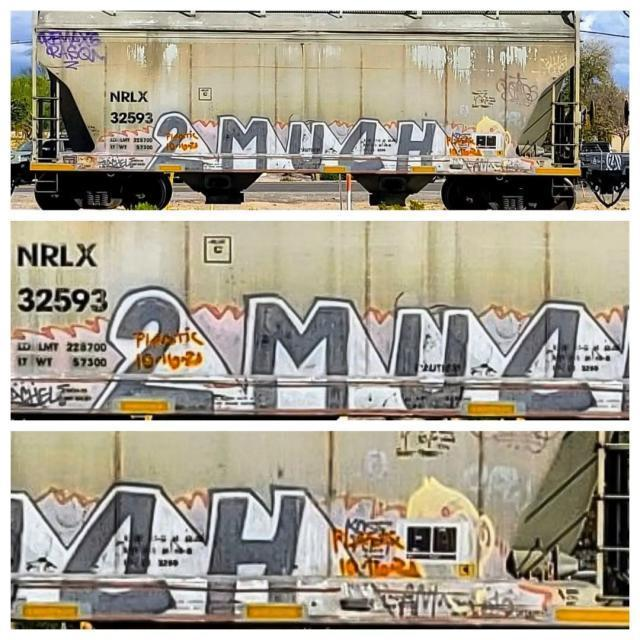-: (98, 284, 631, 419), (8, 494, 344, 622), (132, 112, 456, 180), (10, 240, 114, 321), (28, 24, 116, 74), (488, 63, 542, 109), (107, 83, 155, 132)
